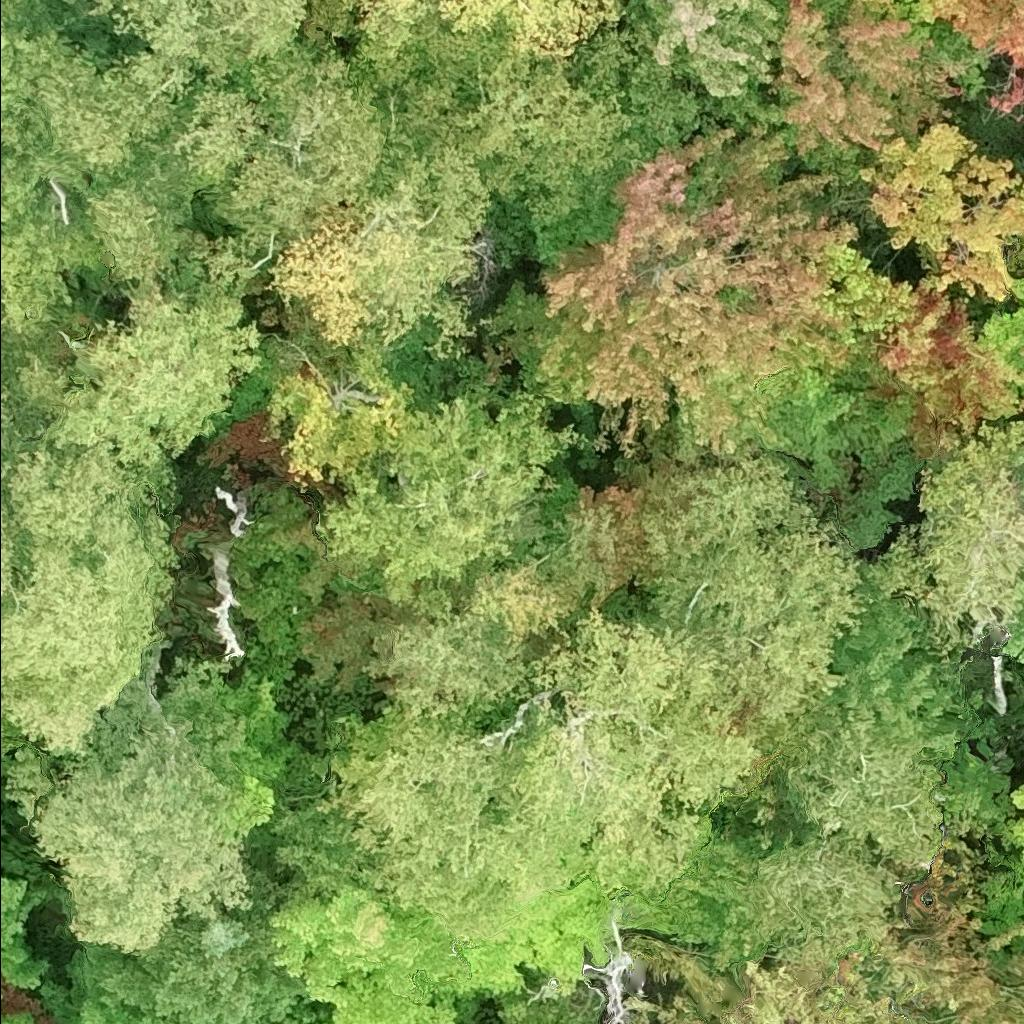crown: (485, 127, 931, 550), (317, 609, 755, 937), (342, 0, 702, 268), (0, 0, 245, 326), (10, 659, 250, 954), (153, 17, 393, 283), (641, 447, 868, 720), (0, 442, 180, 759), (742, 698, 948, 955), (258, 135, 490, 361), (15, 277, 260, 473), (754, 0, 980, 182), (868, 406, 1023, 648), (98, 859, 321, 1023), (0, 284, 98, 621), (86, 0, 305, 137), (867, 126, 1023, 304), (271, 888, 471, 1023), (876, 283, 1023, 455), (618, 0, 787, 136), (892, 0, 1023, 115), (977, 787, 1023, 946), (0, 878, 46, 988), (78, 995, 162, 1023), (990, 302, 1023, 370), (0, 993, 38, 1023), (861, 0, 894, 19), (57, 0, 66, 1)
